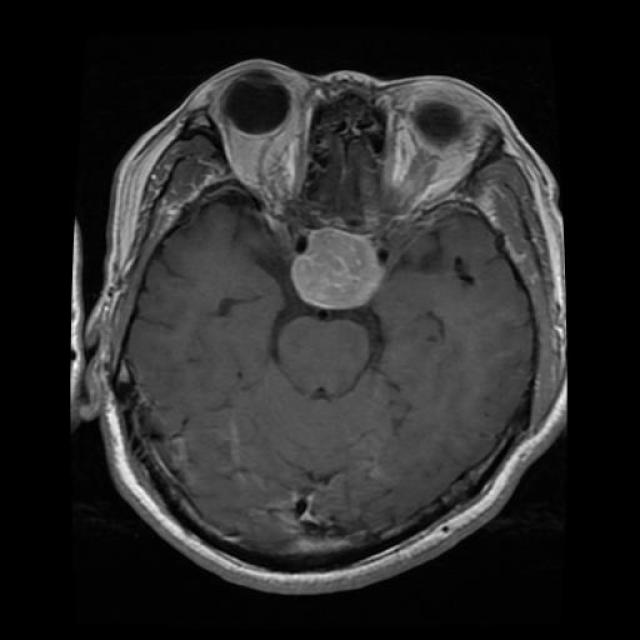pituitary: (275, 206, 395, 341)
